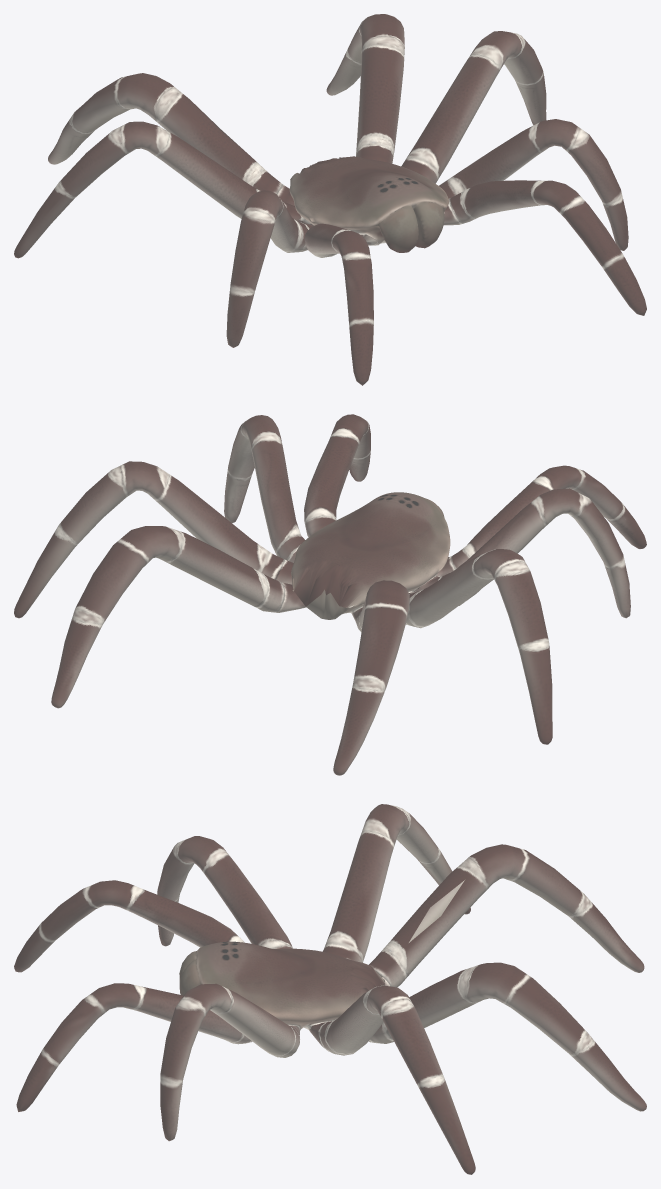
3 renders of one model, top to bottom at view 1: azimuth 30°, elevation 25°; view 2: azimuth 150°, elevation 25°; view 3: azimuth 270°, elevation 25°, orthographic.
Visible parts, largest first — view 1: Spider_0.002; view 2: Spider_0.002; view 3: Spider_0.002.
Boxes of the visible parts, <box> form: Spider_0.002: <box>14,14,646,385</box>; Spider_0.002: <box>14,414,646,775</box>; Spider_0.002: <box>14,804,646,1174</box>.
Bounding box in the file's own units: 1.53 × 0.3917 × 1.55.
Materials: 1 (1 with a texture image).
